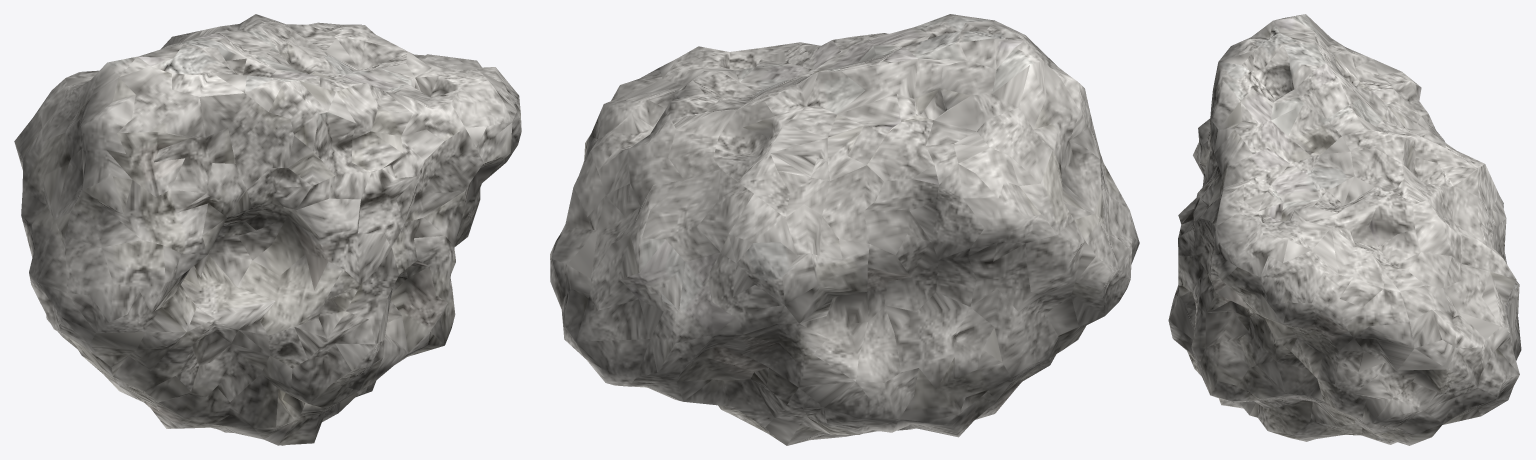
The model's file is asteroid_10.glb.
3 views of the same model, side by side, from view 1: azimuth 30°, elevation 25°; view 2: azimuth 150°, elevation 25°; view 3: azimuth 270°, elevation 25° (orthographic). The views are drawn at different scales.
Parts seen in each view (by area): view 1: Mesh_0.001; view 2: Mesh_0.001; view 3: Mesh_0.001.
Part boxes in pixels (bbox=[...]): Mesh_0.001: bbox=[14, 14, 521, 445]; Mesh_0.001: bbox=[550, 14, 1139, 445]; Mesh_0.001: bbox=[1168, 14, 1521, 445].
Bounding box in the file's own units: 1.9 × 1.49 × 1.37.
1 material, 1 textured.
